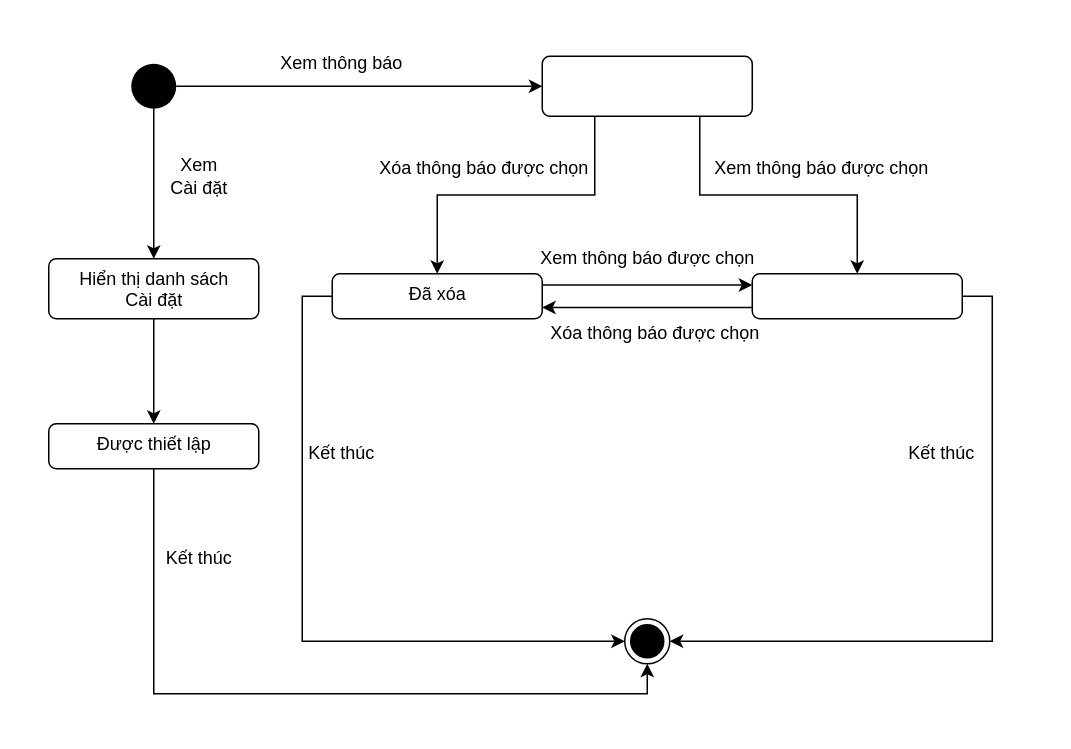
The diagram is 1071 pixels wide and 749 high, and some of its shapes have lost their labels. The shapes that lost their labels are listed below. From the top down, each one's box as (x1, y1, x2, y2) in pixels, then its label:
(541, 55, 752, 116): Hiển thị danh sách thông báo
(751, 272, 962, 319): Đã Đánh Dấu Đã Xem
